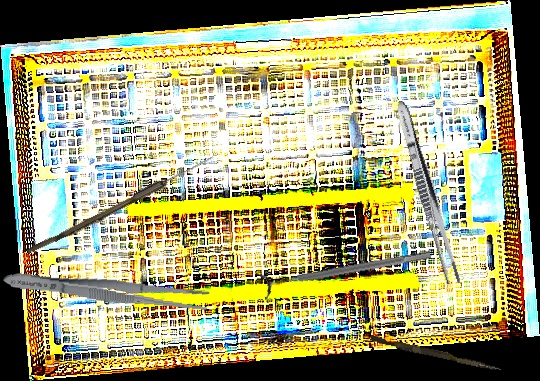Dressing Forceps: (390, 98, 465, 287), (1, 265, 212, 315)
Fixation Ring: (259, 240, 434, 302)
Pusher: (369, 335, 503, 372)
Surgical Spoon: (26, 151, 216, 259)
